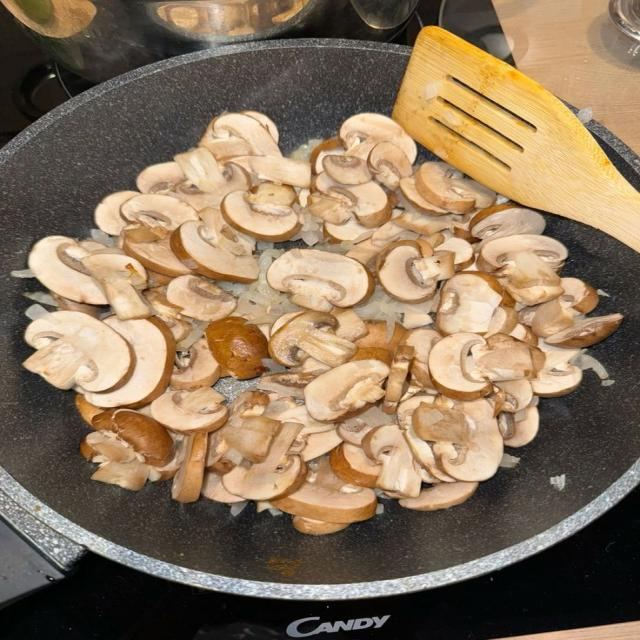champignon mushrooms: (12, 111, 622, 534), (24, 312, 134, 391), (86, 317, 175, 407), (414, 398, 502, 482), (271, 458, 376, 523), (223, 423, 307, 502), (267, 249, 373, 311), (477, 235, 567, 305), (28, 236, 108, 304), (171, 222, 259, 283), (305, 359, 389, 421), (397, 395, 455, 482), (80, 253, 152, 320), (269, 312, 356, 367), (93, 409, 173, 466), (312, 172, 392, 228), (175, 147, 250, 206), (436, 272, 504, 335), (363, 425, 421, 497), (429, 333, 491, 399), (376, 241, 441, 303), (415, 162, 495, 212), (223, 392, 280, 462), (221, 191, 300, 241), (205, 317, 268, 379), (338, 113, 416, 163), (532, 278, 598, 337), (123, 229, 192, 283), (151, 387, 227, 433), (471, 334, 545, 381), (167, 276, 237, 322), (210, 113, 281, 156), (469, 204, 545, 242), (120, 194, 198, 231), (398, 177, 453, 228), (143, 288, 193, 342), (546, 314, 623, 348), (531, 346, 582, 397), (170, 338, 220, 390), (233, 156, 311, 188), (172, 431, 207, 502), (403, 329, 442, 389), (381, 344, 414, 414), (330, 442, 381, 487), (367, 141, 412, 190), (400, 482, 478, 510), (94, 191, 139, 236), (80, 431, 136, 463), (92, 459, 149, 490), (257, 372, 321, 399), (355, 320, 406, 353), (198, 128, 252, 159), (499, 407, 539, 447), (136, 162, 186, 193), (294, 429, 341, 461), (322, 155, 372, 185), (394, 211, 453, 236), (201, 471, 244, 504), (323, 218, 375, 243), (371, 218, 415, 247), (310, 138, 345, 174), (241, 110, 279, 143), (495, 379, 533, 412), (438, 237, 474, 270), (333, 309, 368, 341), (251, 182, 297, 206), (292, 516, 349, 534), (74, 393, 104, 426), (509, 323, 538, 345)
